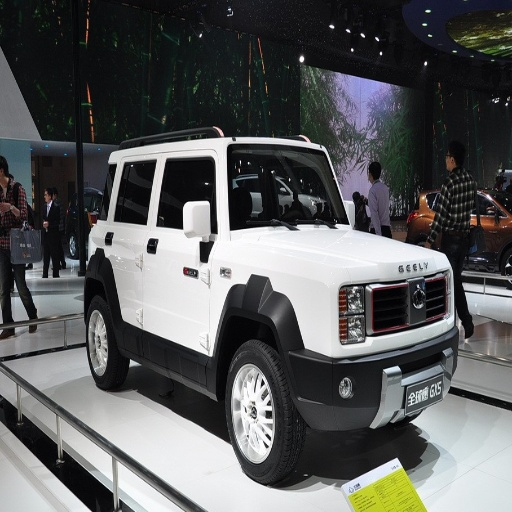front_right_door: (143, 226, 211, 374)
